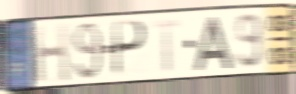9: (71, 20, 103, 82), (234, 12, 263, 71)
A: (193, 15, 234, 73)
H: (31, 21, 72, 84)
P: (111, 18, 148, 79)
T: (152, 18, 181, 74)
